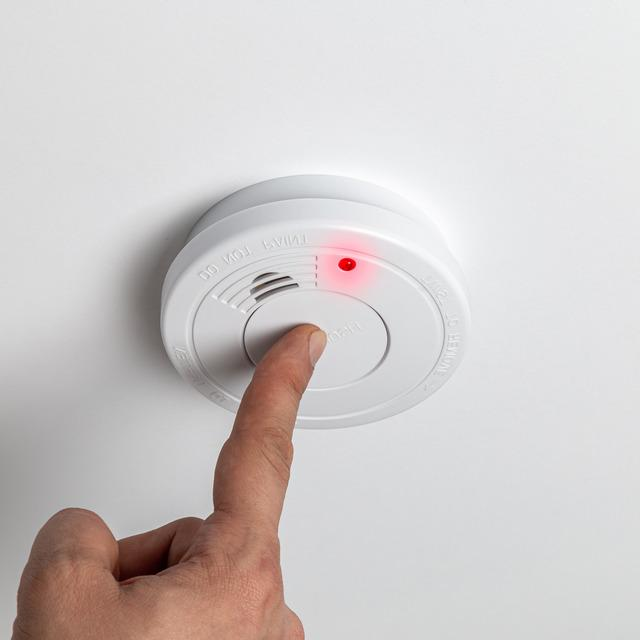Smoke-Detector: (162, 171, 474, 433)
